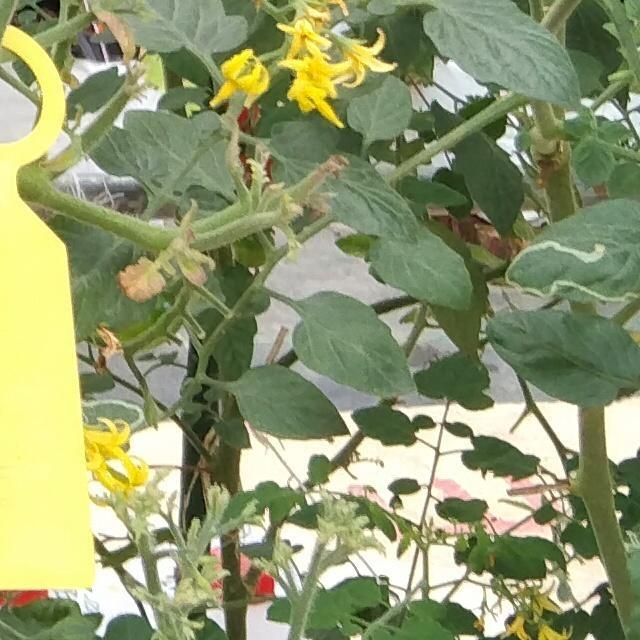Healthy: (414, 0, 589, 118), (486, 304, 640, 410), (289, 284, 423, 401), (228, 359, 358, 445), (366, 221, 475, 314), (346, 74, 412, 143)
Leaf_Miner: (500, 194, 640, 309)
